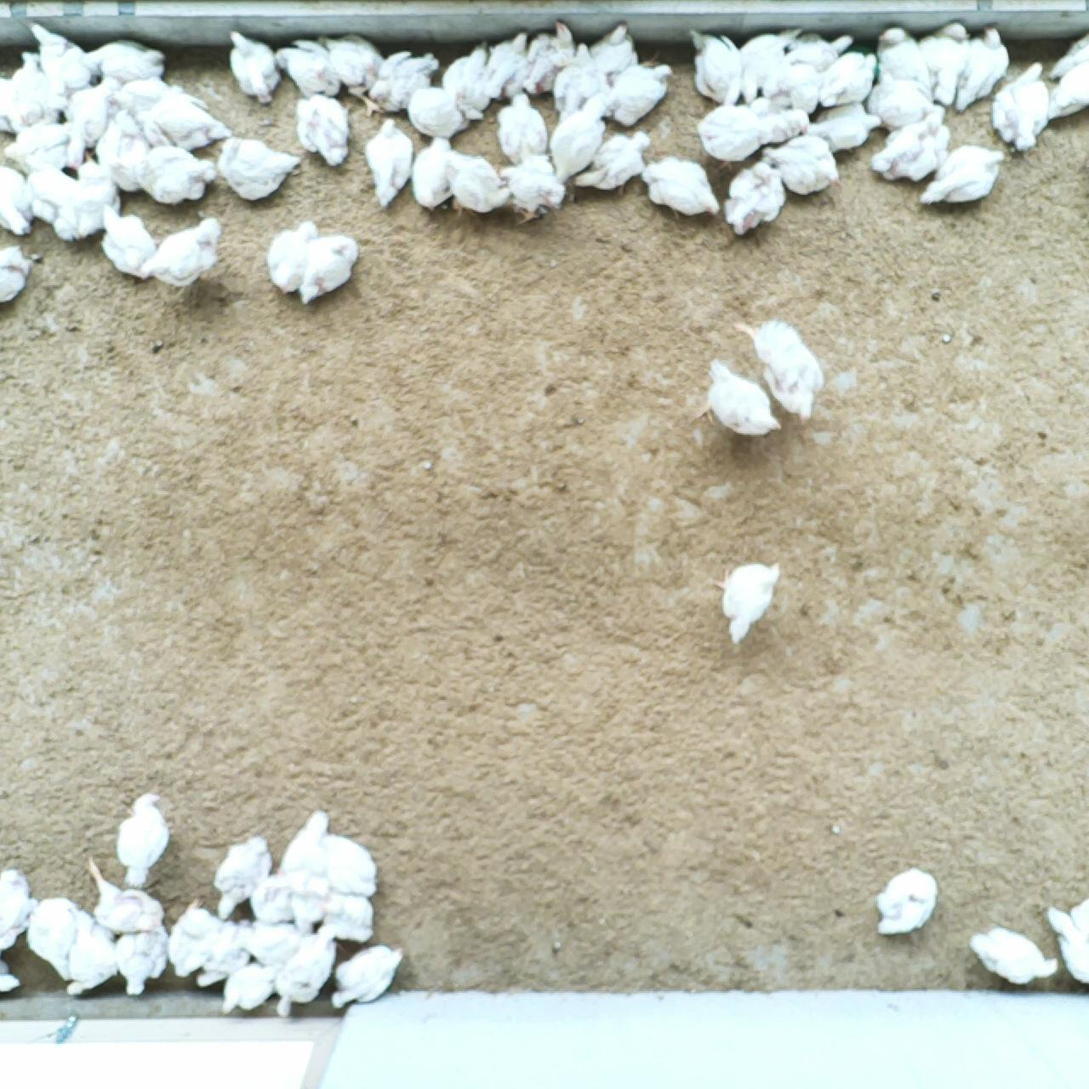chicken: (733, 312, 828, 421), (693, 358, 781, 438), (84, 855, 167, 937), (134, 89, 231, 154), (697, 102, 791, 169), (270, 929, 338, 1021), (716, 552, 782, 645), (137, 215, 224, 285), (988, 62, 1053, 155), (325, 939, 408, 1011), (951, 20, 1014, 113), (62, 908, 125, 1000), (112, 791, 173, 885), (920, 141, 1005, 208), (971, 923, 1061, 986), (207, 830, 272, 917), (323, 31, 391, 113), (105, 73, 211, 125), (574, 127, 655, 195), (862, 61, 938, 133), (869, 865, 940, 942), (547, 93, 609, 181), (216, 136, 301, 199), (131, 145, 218, 206), (367, 45, 441, 116), (734, 25, 799, 105), (291, 229, 360, 304), (492, 154, 567, 222), (26, 16, 94, 90), (644, 155, 720, 221), (719, 158, 784, 235), (760, 136, 842, 197), (603, 56, 672, 127), (520, 15, 578, 99), (98, 205, 162, 281), (29, 160, 87, 242), (443, 142, 508, 215), (363, 115, 415, 206), (9, 118, 92, 175), (915, 18, 969, 105), (690, 24, 745, 107), (113, 919, 170, 999), (29, 889, 78, 982), (165, 893, 219, 977), (224, 26, 282, 104), (411, 127, 463, 213), (297, 93, 354, 171), (868, 123, 942, 183), (263, 221, 322, 296), (271, 37, 345, 96), (275, 810, 337, 880), (60, 75, 121, 146), (871, 23, 935, 90), (72, 148, 123, 231), (495, 91, 547, 168), (324, 831, 382, 900), (195, 918, 251, 989), (478, 30, 533, 102), (815, 47, 878, 109), (95, 112, 146, 188), (445, 44, 494, 123), (807, 101, 884, 151), (555, 43, 605, 119), (1047, 895, 1089, 985), (585, 18, 640, 86), (87, 36, 164, 82), (250, 864, 309, 924), (762, 59, 823, 116), (315, 888, 378, 942), (14, 51, 59, 125), (245, 918, 311, 968), (0, 864, 37, 952), (228, 955, 280, 1016), (784, 27, 852, 71), (0, 160, 35, 242), (407, 87, 462, 139), (1046, 62, 1089, 123), (916, 99, 954, 167), (1045, 28, 1089, 85), (293, 874, 336, 932), (0, 241, 33, 303), (0, 75, 28, 137)
